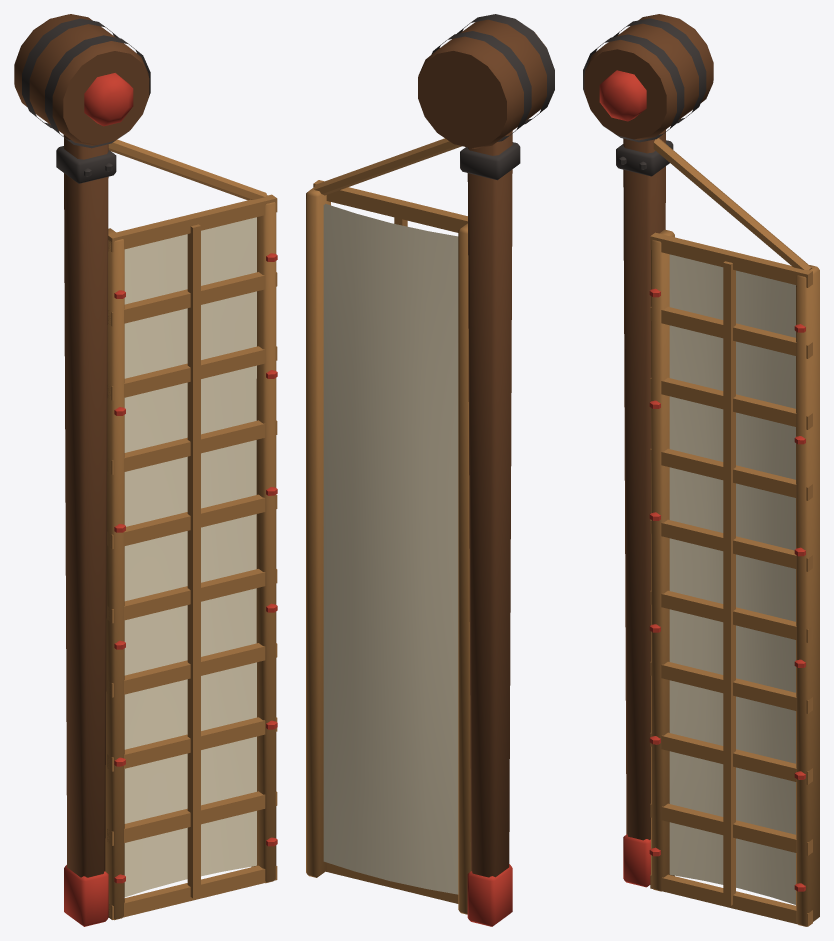
The model's file is mill_sail.glb.
3 renders of one model, left to right at view 1: azimuth 30°, elevation 25°; view 2: azimuth 150°, elevation 25°; view 3: azimuth 330°, elevation 25°, orthographic. The views are drawn at different scales.
Parts seen in each view (by area): view 1: body; view 2: body; view 3: body.
Part boxes in pixels (bbox=[...]): body: bbox=[14, 14, 277, 926]; body: bbox=[306, 14, 554, 926]; body: bbox=[583, 14, 819, 926].
Size of the model in its own units: 0.8644 by 3.18 by 0.38.
